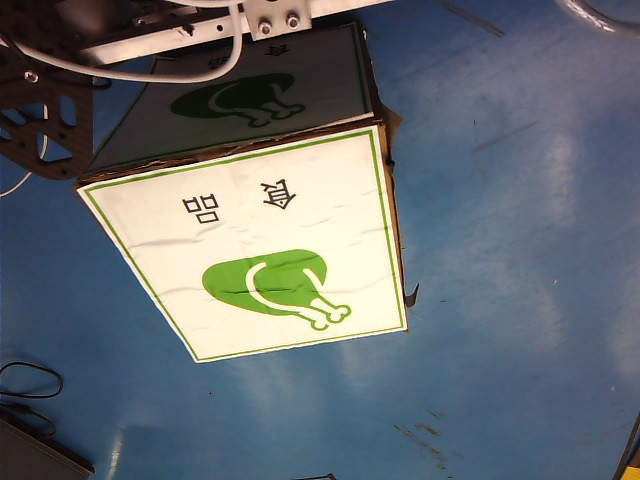Cube_food: (170, 172, 367, 339)
